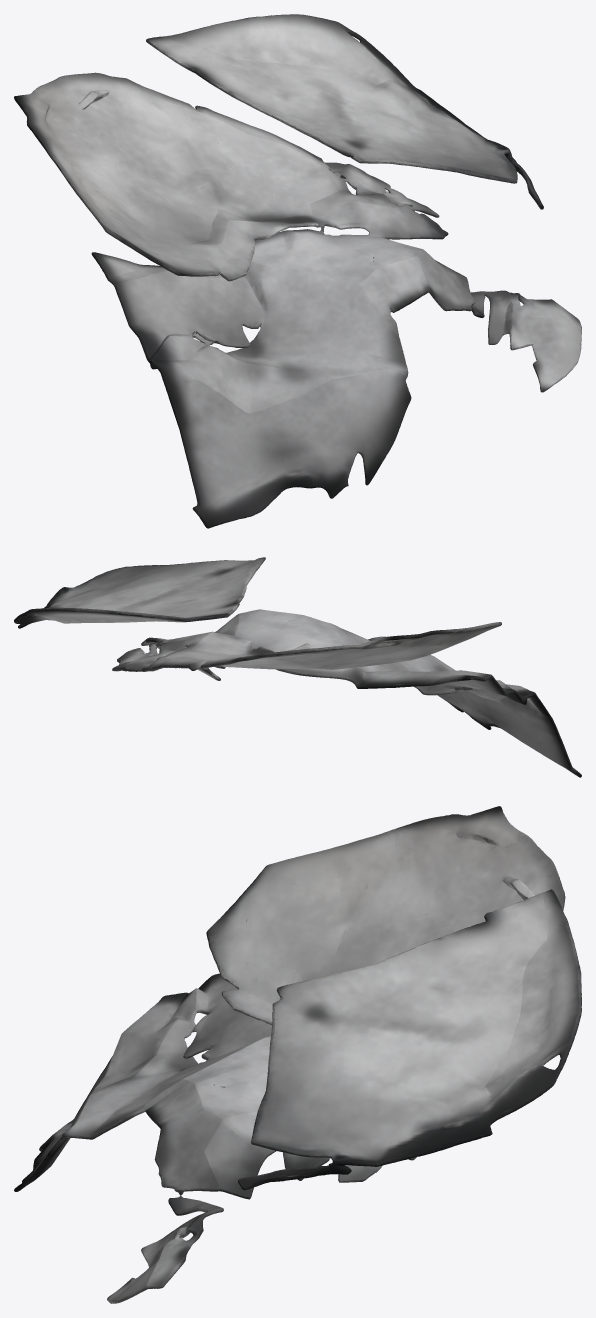
The picture shows the model from 3 angles, top to bottom: view 1: azimuth 30°, elevation 25°; view 2: azimuth 150°, elevation 25°; view 3: azimuth 270°, elevation 25°; orthographic projection. The views are drawn at different scales.
Parts seen in each view (by area): view 1: world; view 2: world; view 3: world.
Part boxes in pixels (x1,y1,x2,y2): world: (14, 14, 581, 528); world: (14, 557, 581, 777); world: (14, 806, 581, 1303).
Size of the model in its own units: 1.2 by 0.7718 by 1.19.
1 material, 1 textured.
